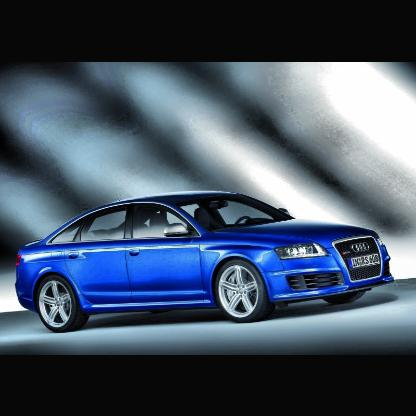Audi S6 Sedan 2011: (16, 191, 396, 333)
